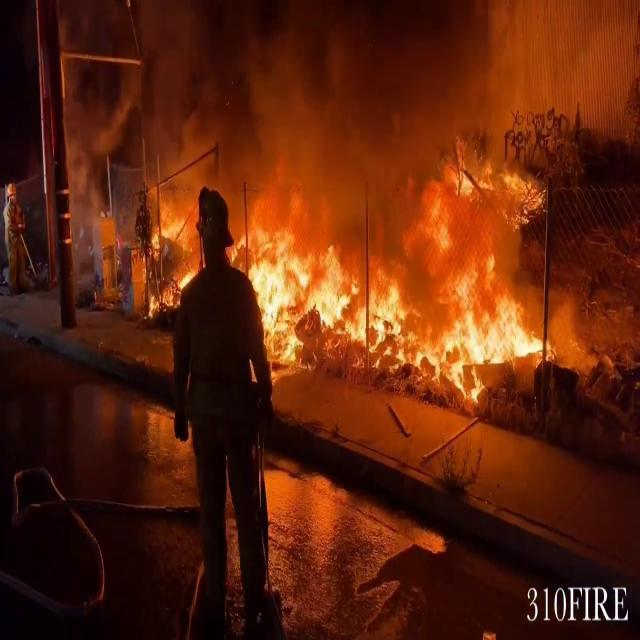Fire: (245, 150, 572, 406)
Smoke: (69, 1, 568, 194)
